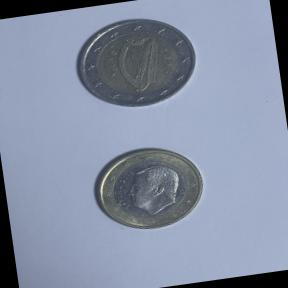1 Euro-B: (84, 136, 214, 240)
2 Euro-B: (66, 7, 203, 120)
